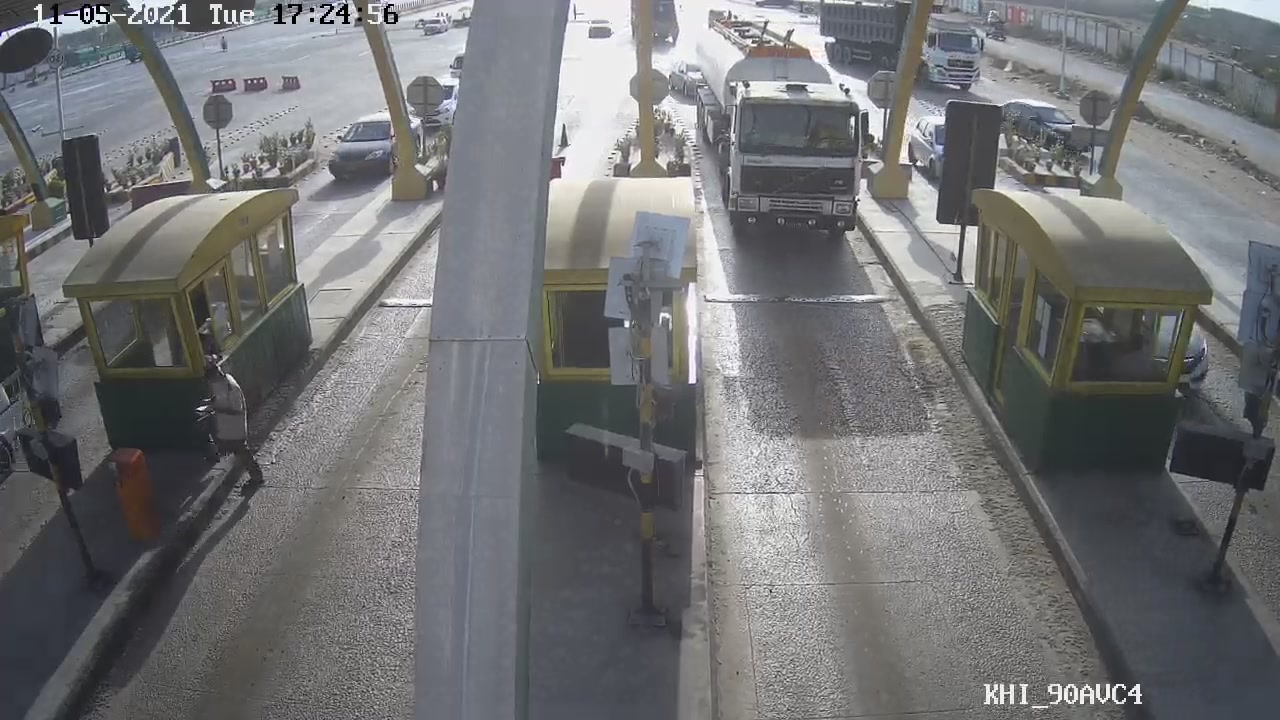F6: (677, 13, 874, 246)
